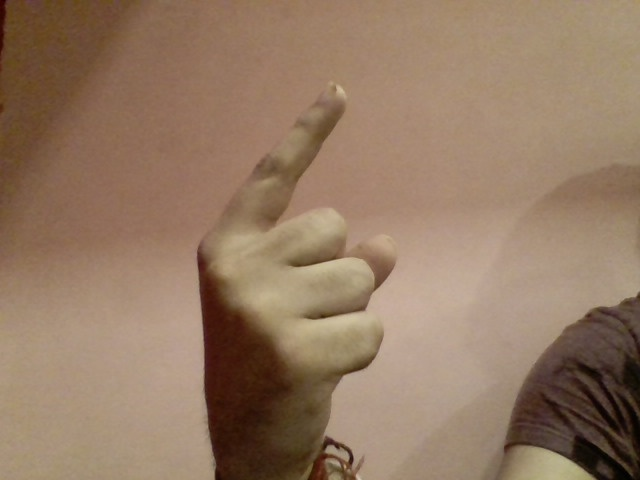z: (172, 70, 415, 462)
